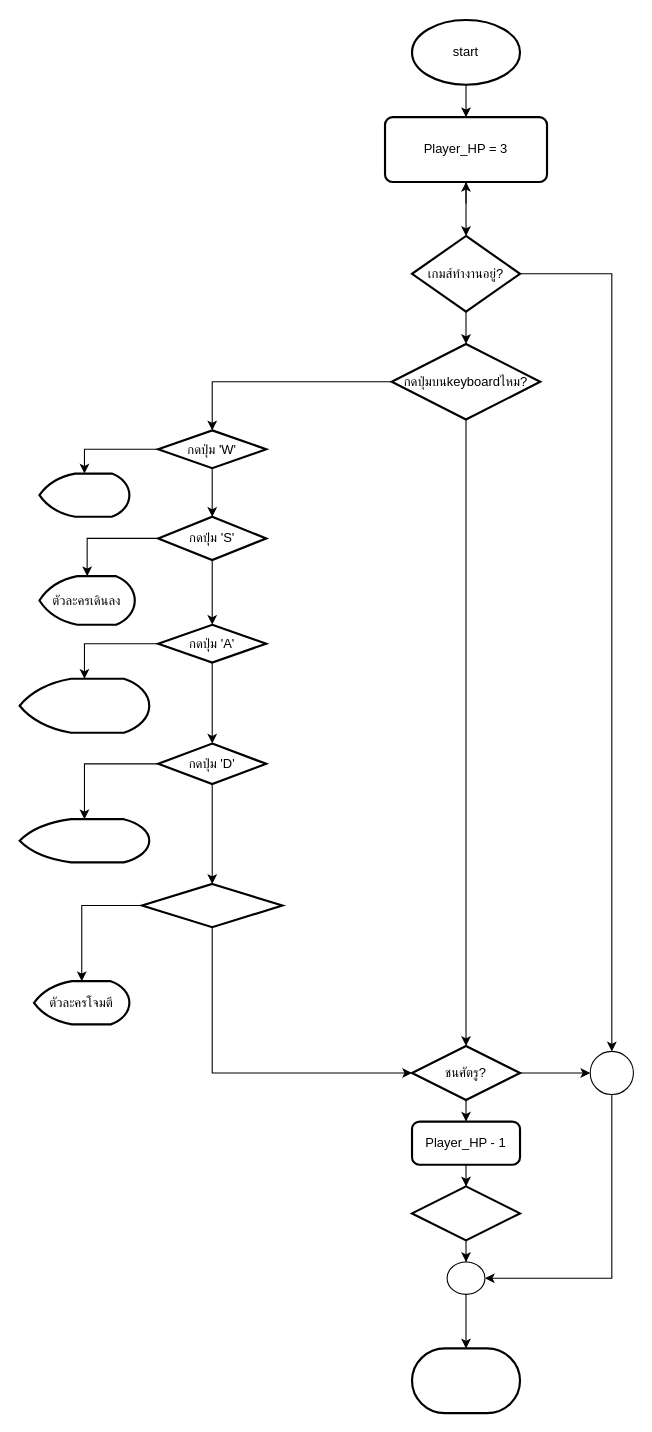
Some shapes in this 652 by 1432 pixel diagram are drawn without their labels. The centre of each missing label's shape, as x and y in pixels:
"Player_HP = 0" belongs at point (465, 1213).
"กดปุ่ม 'Space bar'" belongs at point (211, 905).
"จบเกมส์" belongs at point (465, 1380).
"ตัวละครเดินขึ้น" belongs at point (84, 494).
"ตัวละครเดินไปทางขวา" belongs at point (84, 840).
"ตัวละครเดินไปทางซ้าย" belongs at point (84, 705).
